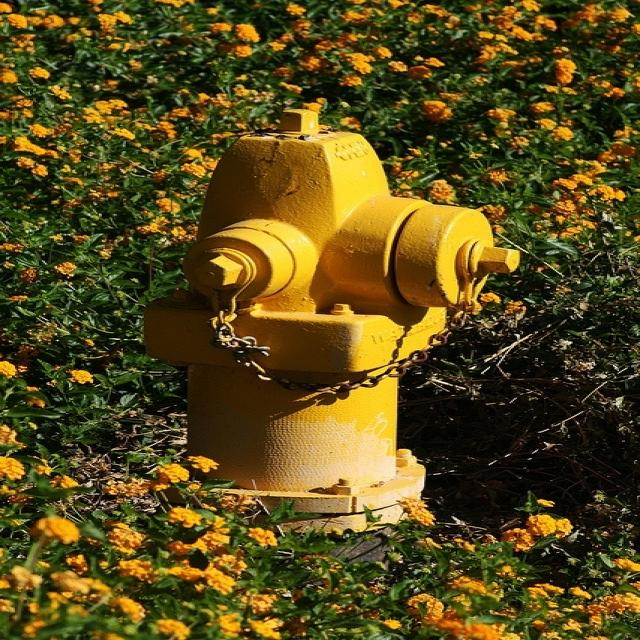fire_hydrant: (132, 120, 494, 536)
